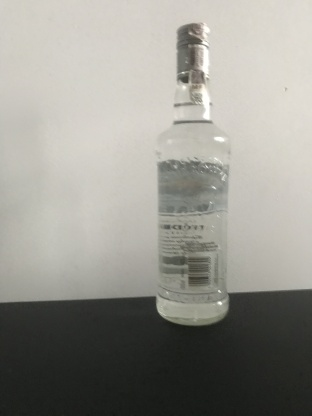nakretka: (174, 19, 211, 83)
